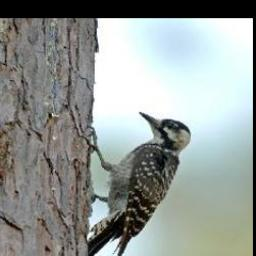Woodpecker: (76, 111, 195, 256)
